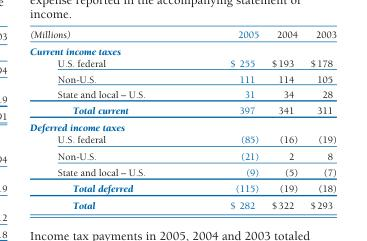table: (29, 28, 335, 210)
table column: (29, 28, 187, 210), (187, 28, 264, 210), (264, 28, 303, 210), (303, 28, 335, 210)
table column header: (29, 28, 335, 42)
table projected row header: (29, 42, 335, 57), (29, 118, 335, 132)
table row: (29, 101, 335, 118), (29, 163, 335, 180), (29, 147, 335, 163), (29, 180, 335, 196), (29, 42, 335, 57), (29, 71, 335, 86), (29, 86, 335, 101), (29, 132, 335, 147), (29, 28, 335, 42), (29, 57, 335, 71), (29, 118, 335, 132), (29, 196, 335, 210)
